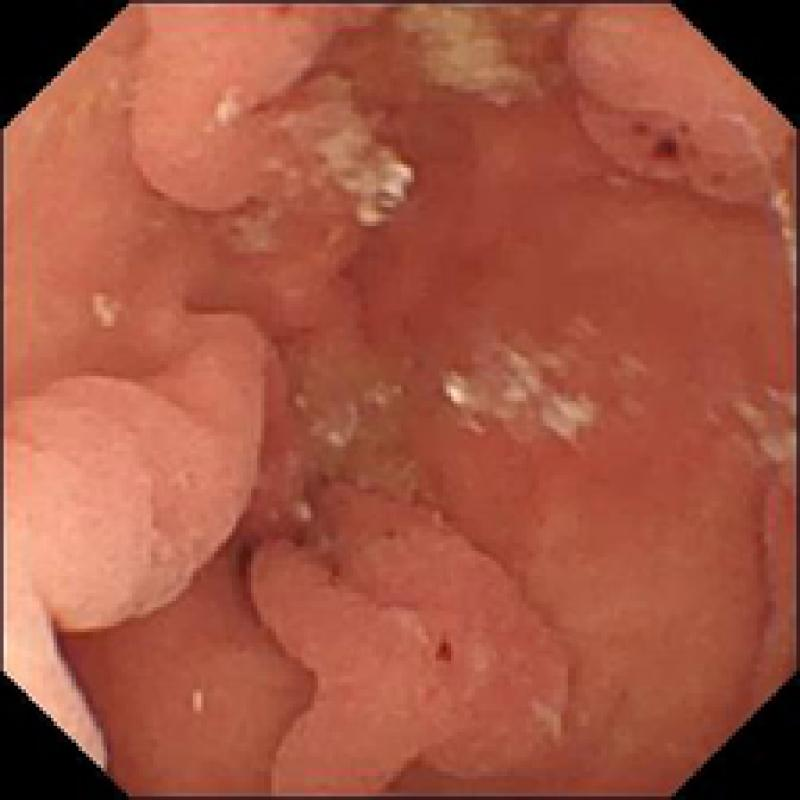bleeding: (625, 111, 718, 189), (429, 629, 461, 672)
